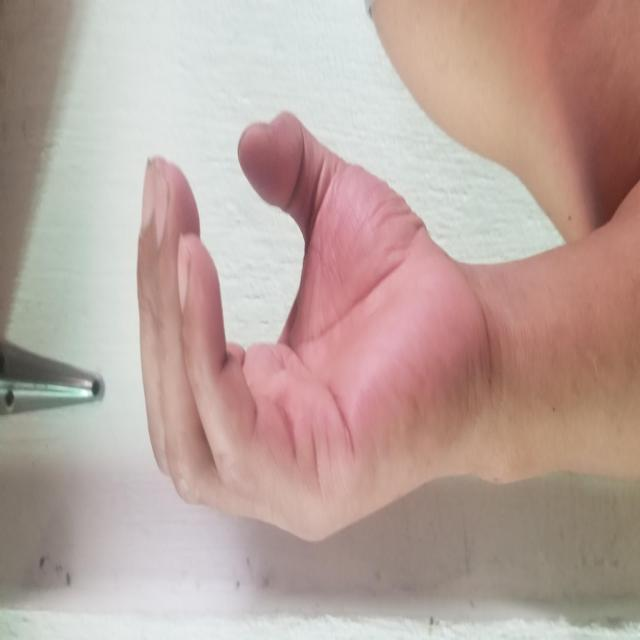C: (92, 50, 530, 598)
